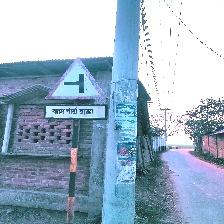Side-road-left: (44, 58, 107, 120)
